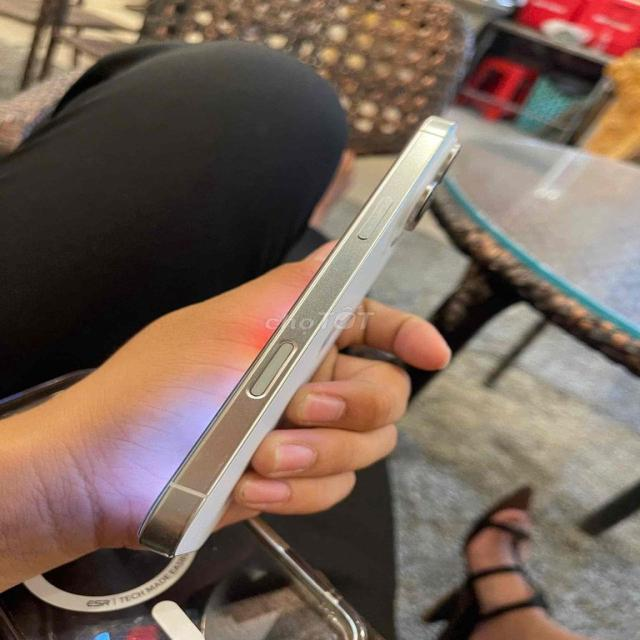gen_15: (128, 100, 487, 585)
